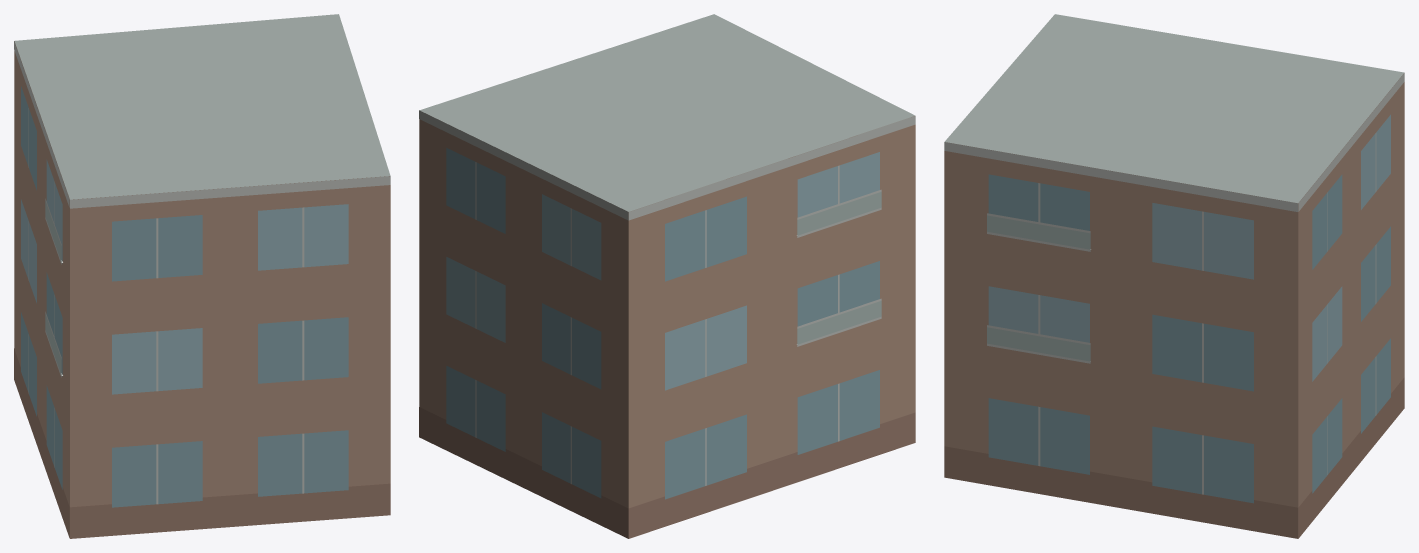
The model's file is survey-upis-32473701.glb.
3 renders of one model, left to right at view 1: azimuth 30°, elevation 25°; view 2: azimuth 150°, elevation 25°; view 3: azimuth 270°, elevation 25°, orthographic. The views are drawn at different scales.
Parts seen in each view (by area): view 1: survey-upis-32473701.tmp; view 2: survey-upis-32473701.tmp; view 3: survey-upis-32473701.tmp.
Boxes of the visible parts, x1,y1,x2,y2 form: survey-upis-32473701.tmp: [14, 14, 390, 538]; survey-upis-32473701.tmp: [419, 14, 915, 538]; survey-upis-32473701.tmp: [944, 14, 1404, 538].
Bounding box in the file's own units: 11.08 × 9.15 × 11.38.
